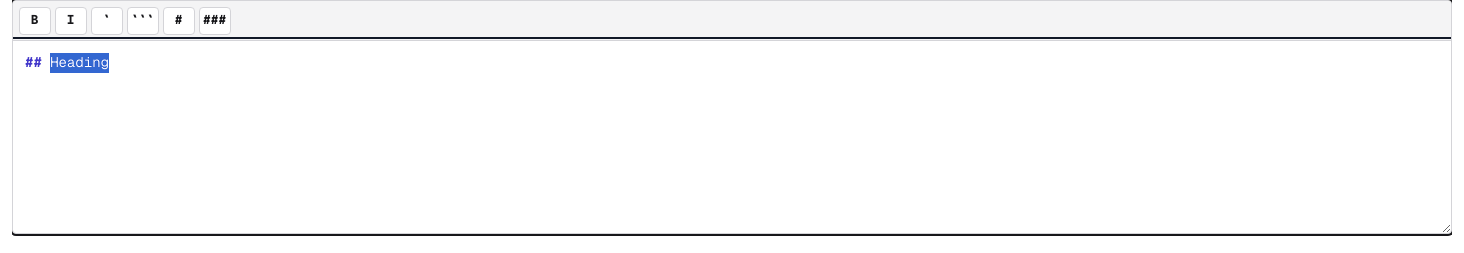
Test: PromptEditor › formats selected text with toolbar buttons
Click the button named "Жирный": click(35, 21) [19, 7, 51, 35]
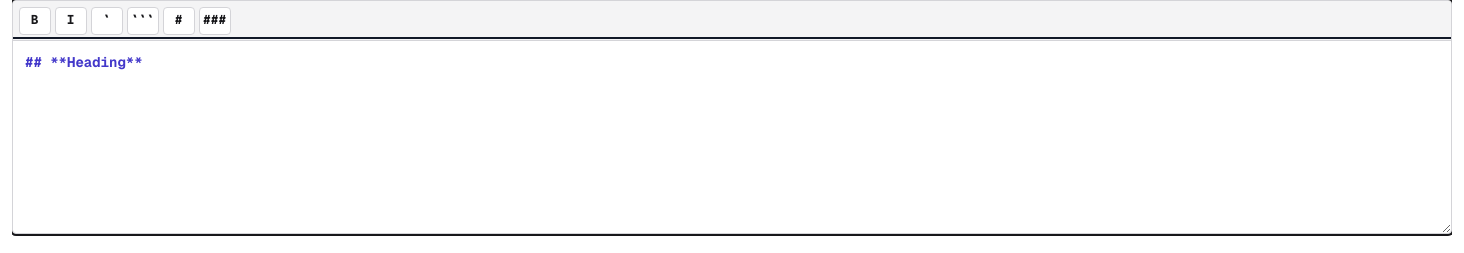
Result: the text box named "Текст промпта" holds "## **Heading**"
